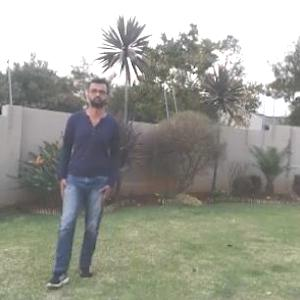follow: (47, 55, 125, 295)
